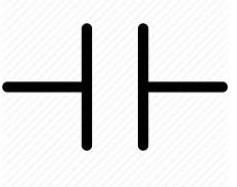Capacitor: (54, 18, 167, 159)
